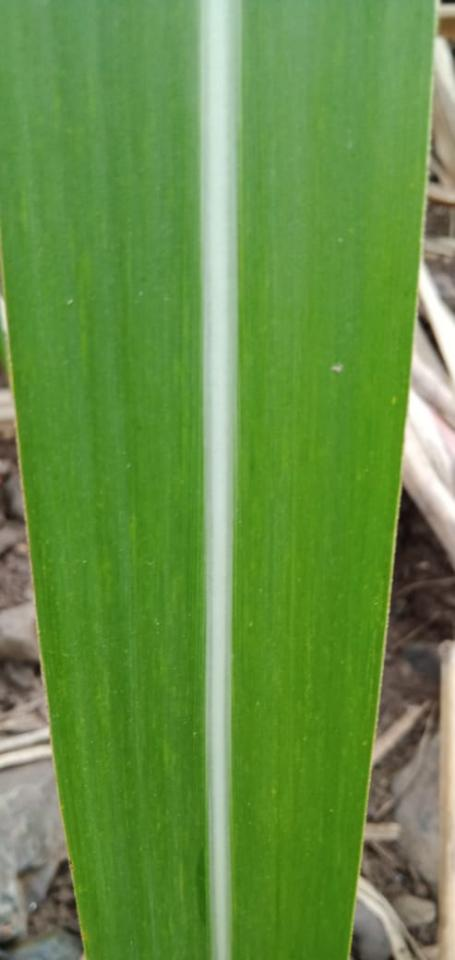Healthy: (0, 0, 435, 959)
